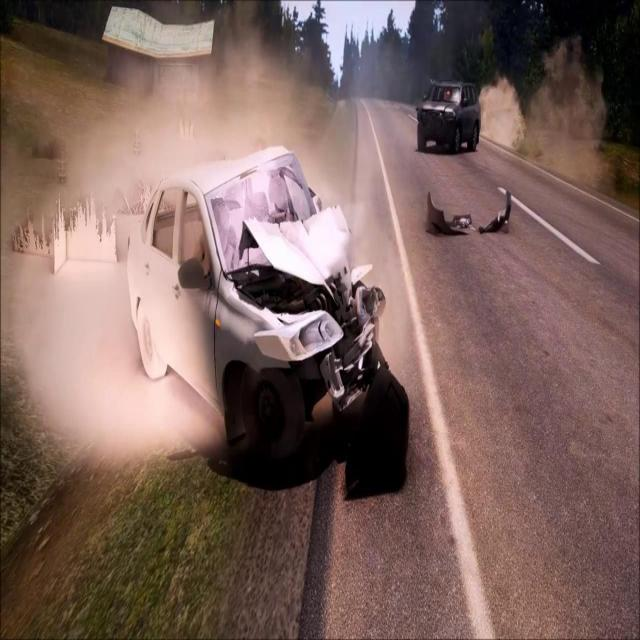accident: (121, 140, 389, 474)
